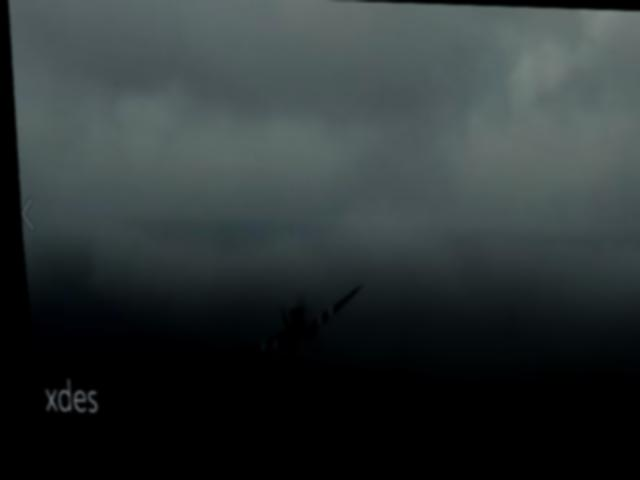uav: (209, 275, 374, 377)
